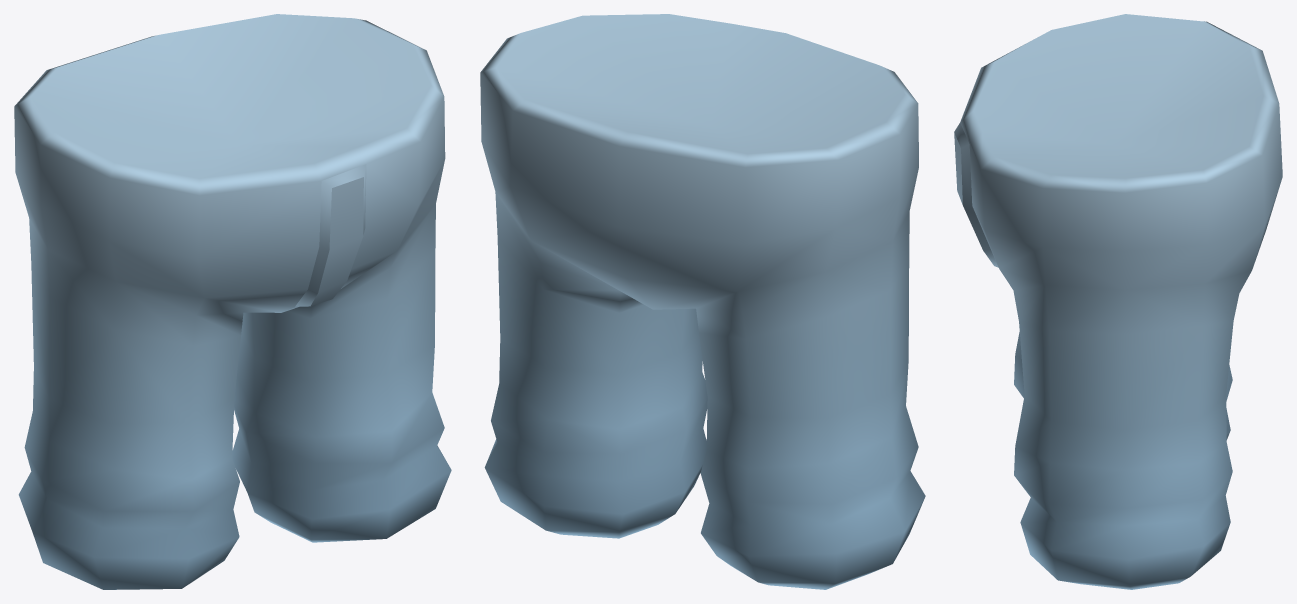
File: Bottom_24.fbx
The picture shows the model from 3 angles, left to right: view 1: azimuth 30°, elevation 25°; view 2: azimuth 150°, elevation 25°; view 3: azimuth 270°, elevation 25°; orthographic projection. The views are drawn at different scales.
Parts seen in each view (by area): view 1: Bottom_24; view 2: Bottom_24; view 3: Bottom_24.
Boxes of the visible parts, x1=… form: Bottom_24: x1=14, y1=14, x2=451, y2=589; Bottom_24: x1=480, y1=14, x2=925, y2=589; Bottom_24: x1=954, y1=14, x2=1282, y2=589.
Bounding box in the file's own units: 39.8 × 42.8 × 30.23.
